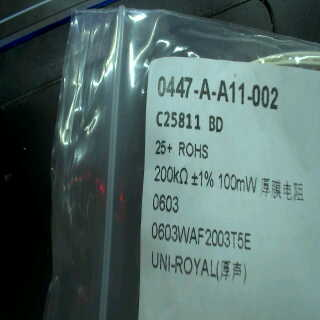200kR: (149, 165, 193, 184)
